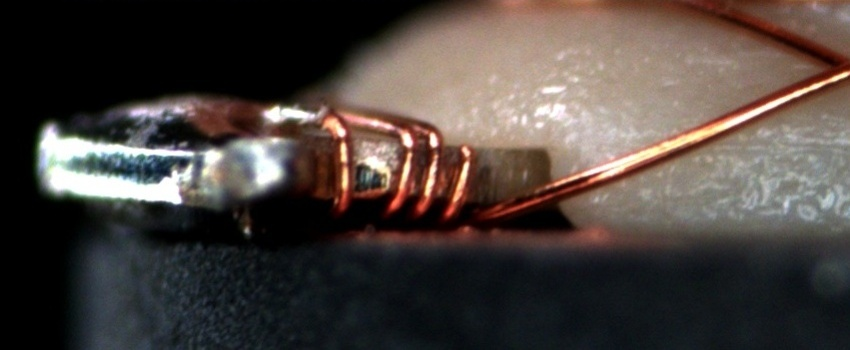CL: (797, 38, 850, 92)
DL: (592, 114, 849, 176)
TE: (301, 102, 477, 225)
